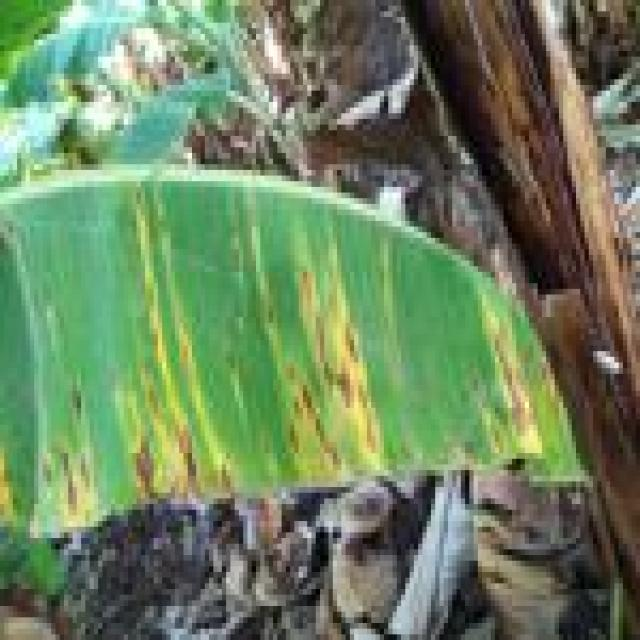Early_rust: (0, 158, 635, 611)
